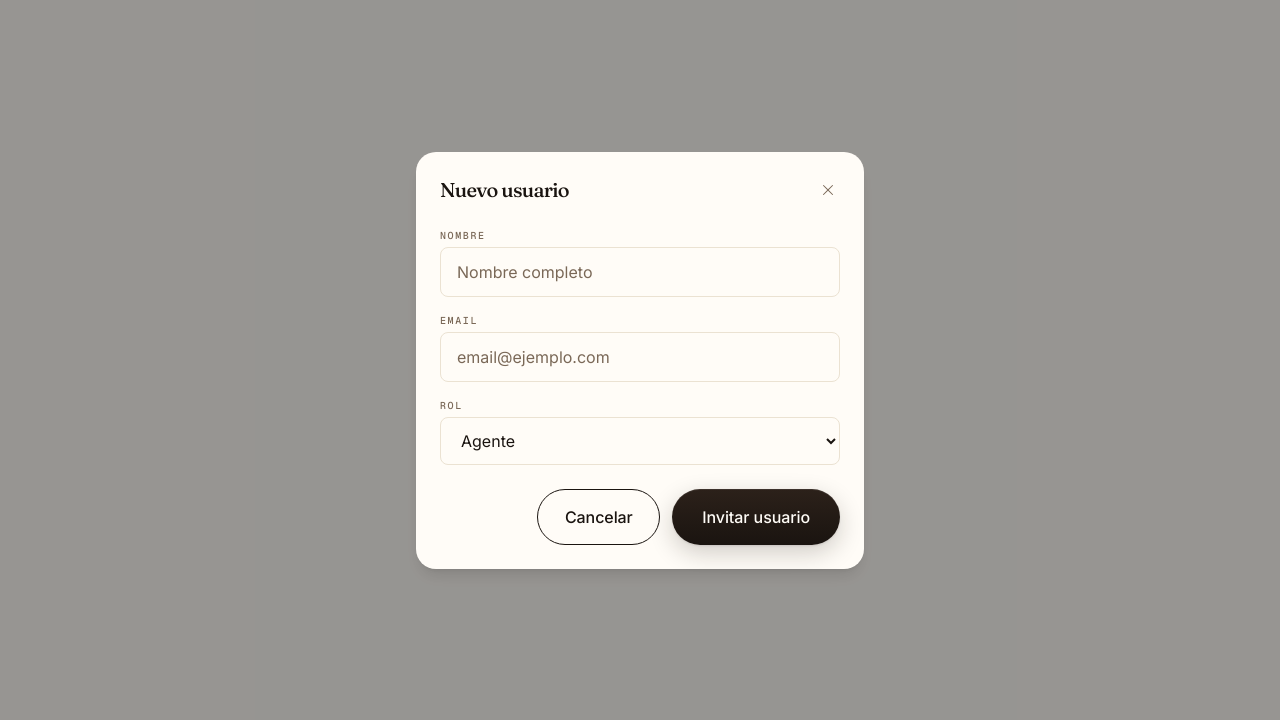
CreateUserDialog › shows validation errors for empty fields
This screenshot has width=1280, height=720.
Click the button "Invitar usuario" at coordinates (756, 516), box left=672, top=488, right=840, bottom=544
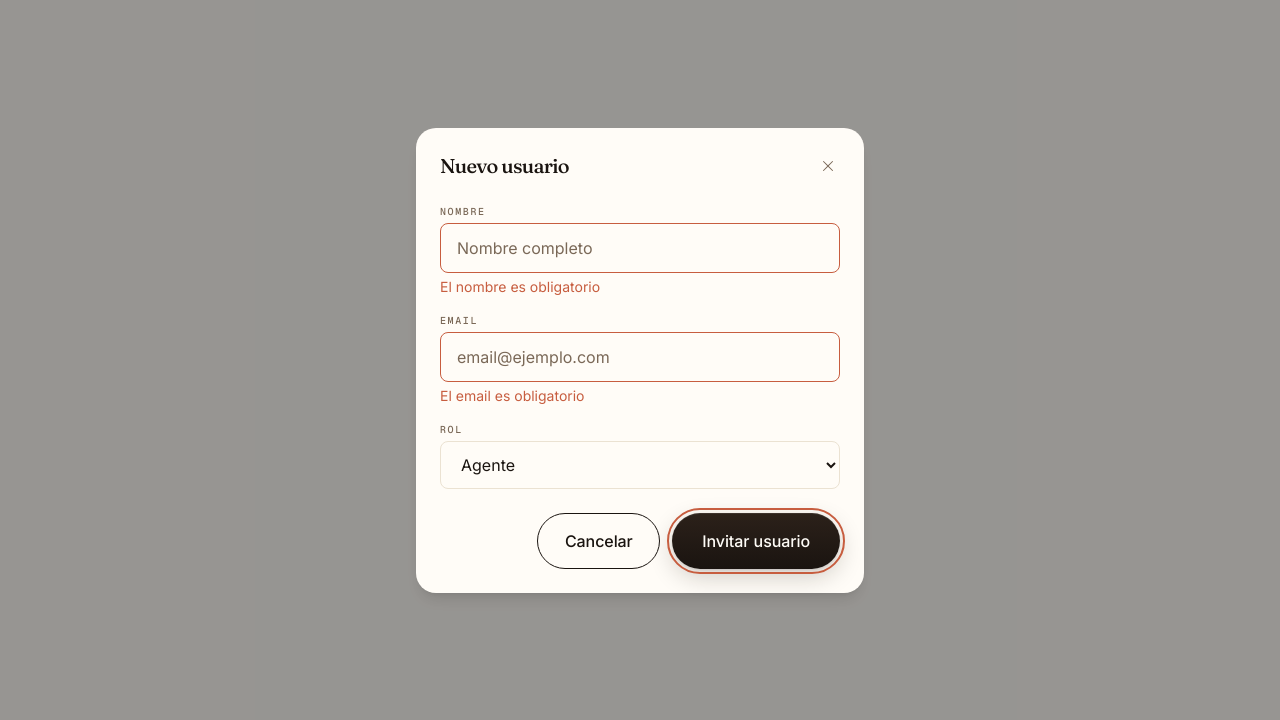
Result: the text "El nombre es obligatorio" is shown at left=440, top=278, right=600, bottom=294
Result: the text "El email es obligatorio" is shown at left=440, top=386, right=584, bottom=404
